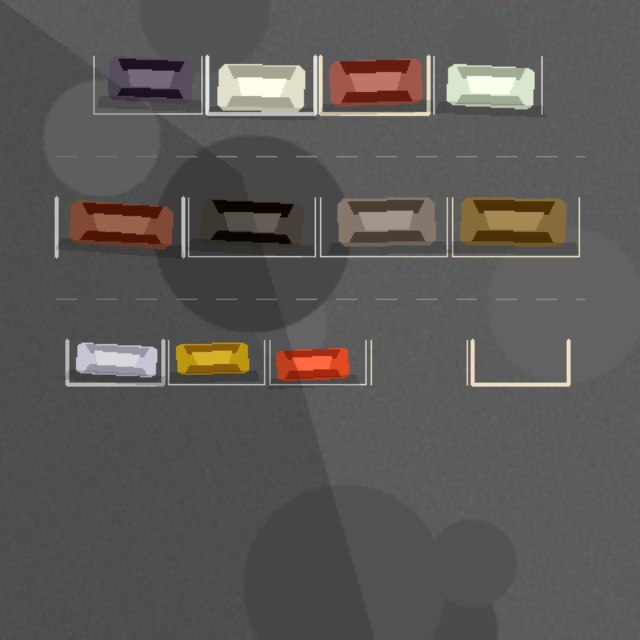space-empty: (371, 340, 467, 384), (472, 340, 568, 384)
space-occupied: (56, 197, 183, 256), (188, 197, 315, 256), (320, 197, 447, 256), (452, 197, 579, 256), (93, 56, 201, 113), (207, 56, 315, 113), (320, 56, 428, 113), (433, 56, 541, 113), (67, 340, 163, 384), (168, 340, 264, 384), (269, 340, 365, 384)
